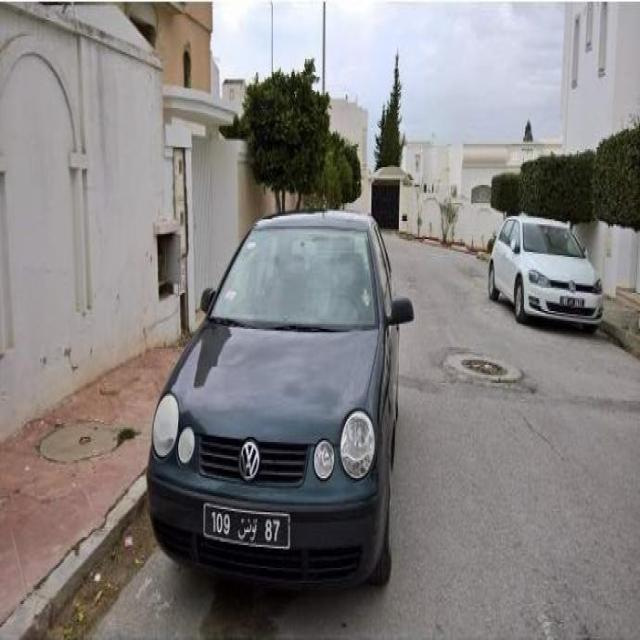LP: (200, 499, 290, 548)
